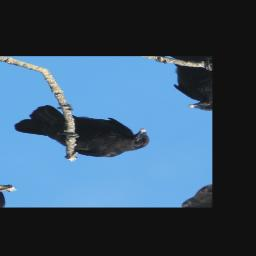Crow: (4, 86, 161, 177)
